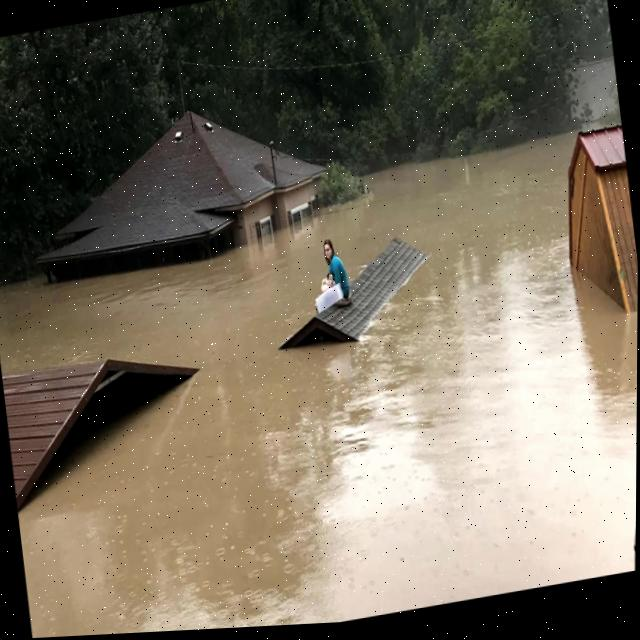civilian: (313, 230, 354, 312)
dog: (318, 267, 337, 291)
